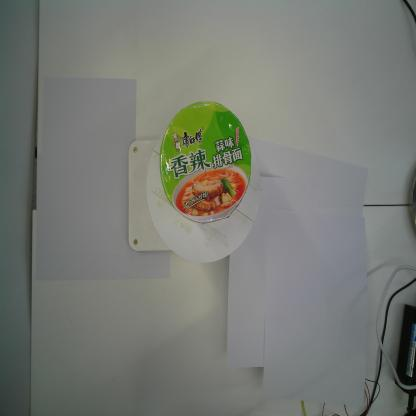Instant Noodles: (158, 100, 252, 224)
